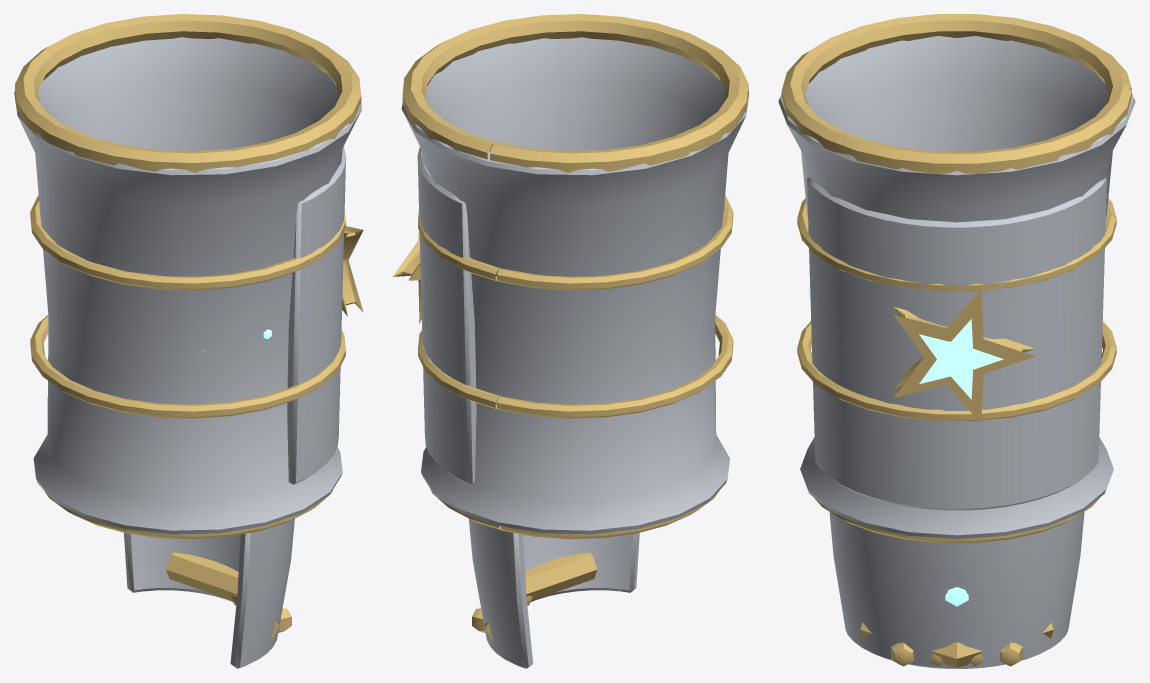
File: esc_last_crown_marshal_gloves.glb
3 renders of one model, left to right at view 1: azimuth 30°, elevation 25°; view 2: azimuth 150°, elevation 25°; view 3: azimuth 270°, elevation 25°, orthographic.
Visible parts, largest first — view 1: esc_last_crown_marshal_gloves, AT_hand_L; view 2: esc_last_crown_marshal_gloves, AT_hand_L; view 3: esc_last_crown_marshal_gloves, AT_hand_L.
Part boxes in pixels (x1,y1,x2,y2): esc_last_crown_marshal_gloves: [14, 14, 363, 539]; AT_hand_L: [124, 518, 294, 668]; esc_last_crown_marshal_gloves: [392, 14, 749, 539]; AT_hand_L: [469, 519, 639, 668]; esc_last_crown_marshal_gloves: [778, 14, 1135, 543]; AT_hand_L: [829, 511, 1084, 668].
Bounding box in the file's own units: 0.1971 × 0.3408 × 0.2004.
